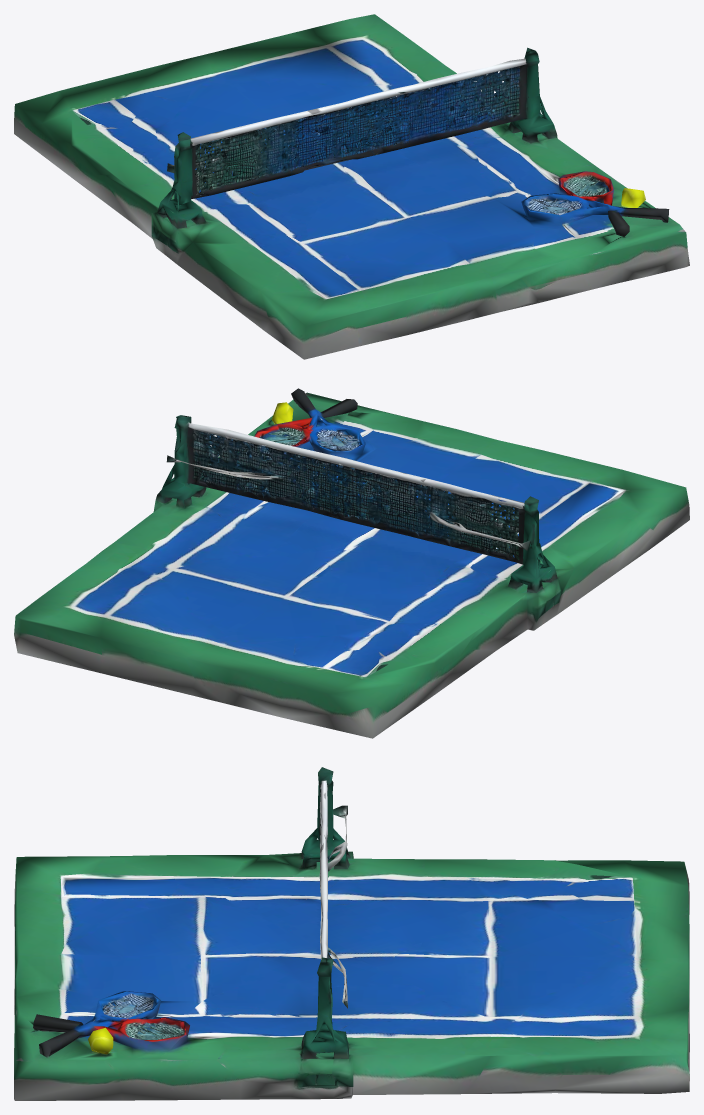
Rendered from tennis.glb.
3 renders of one model, top to bottom at view 1: azimuth 30°, elevation 25°; view 2: azimuth 150°, elevation 25°; view 3: azimuth 270°, elevation 25°, orthographic. The views are drawn at different scales.
Parts seen in each view (by area): view 1: tripo_node_8022184b-42e3-442e-bcea-959aaa2b59e0; view 2: tripo_node_8022184b-42e3-442e-bcea-959aaa2b59e0; view 3: tripo_node_8022184b-42e3-442e-bcea-959aaa2b59e0.
Part boxes in pixels (x1,y1,x2,y2): tripo_node_8022184b-42e3-442e-bcea-959aaa2b59e0: [14, 14, 689, 359]; tripo_node_8022184b-42e3-442e-bcea-959aaa2b59e0: [14, 388, 689, 738]; tripo_node_8022184b-42e3-442e-bcea-959aaa2b59e0: [14, 767, 689, 1100].
Bounding box in the file's own units: 0.7388 × 0.2159 × 0.9992.
1 material, 1 textured.
